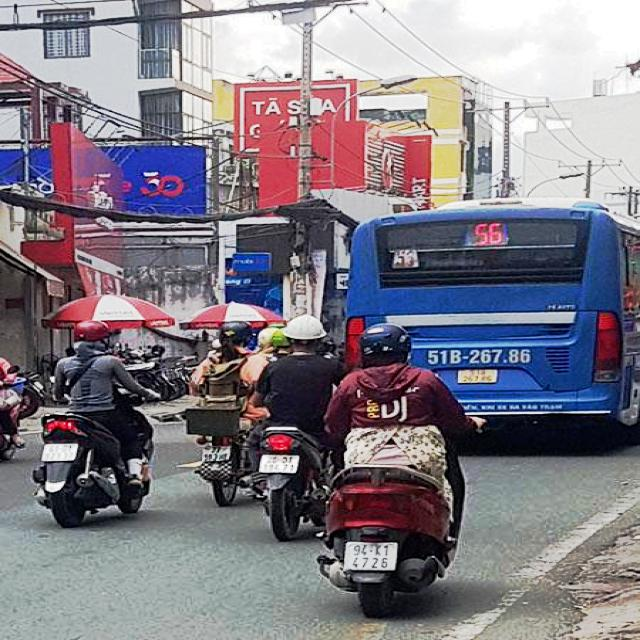license_plate: (347, 542, 399, 571), (38, 443, 78, 463)
